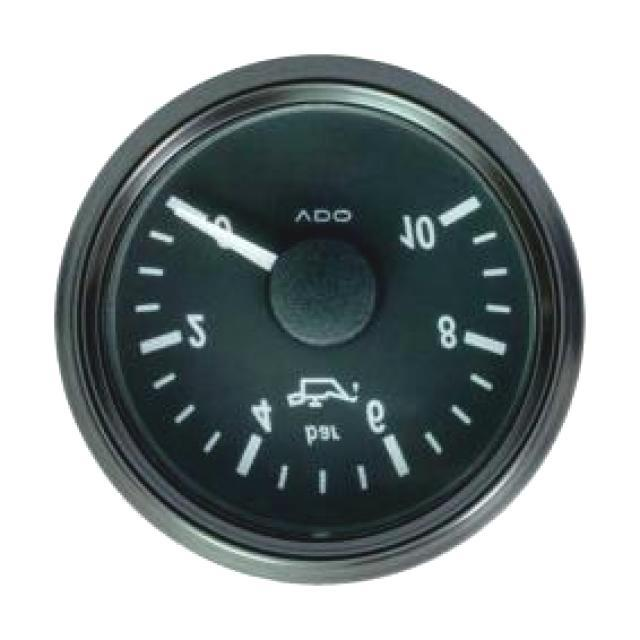Needle_Tip: (154, 180, 195, 226)
Needle_base: (262, 223, 380, 350)
max_value: (396, 206, 451, 258)
min_value: (197, 196, 249, 261)
